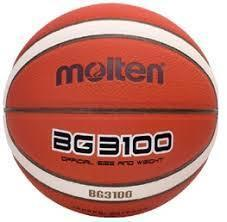ball: (6, 5, 217, 215)
